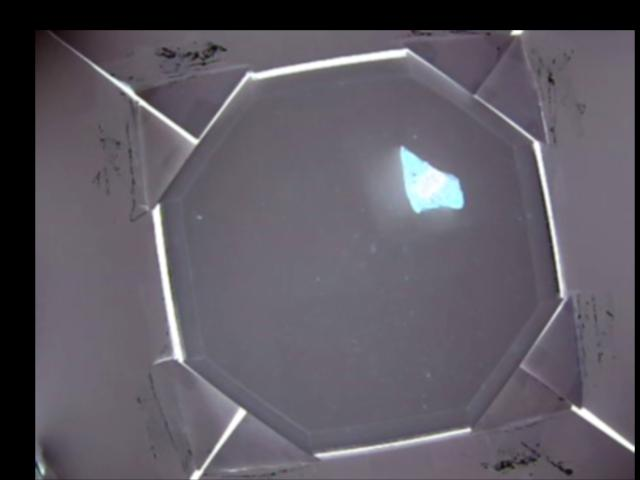Brisk: (399, 145, 463, 212)
